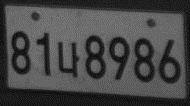1: (35, 32, 52, 77)
6: (157, 38, 181, 84)
8: (84, 33, 107, 80), (133, 37, 156, 82), (10, 30, 32, 74)
9: (108, 35, 130, 80)
나: (57, 38, 80, 78)
